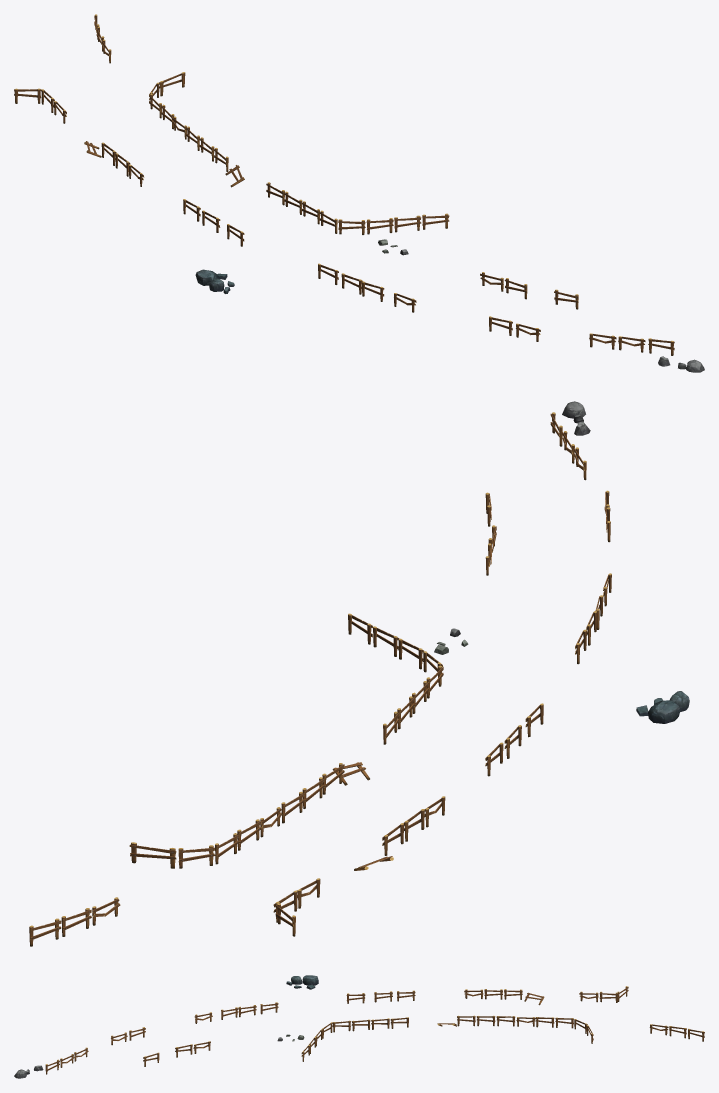
Rendered from wujian35_1.fbx.
3 views of the same model, one above another, from view 1: azimuth 30°, elevation 25°; view 2: azimuth 150°, elevation 25°; view 3: azimuth 270°, elevation 25° (orthographic). The views are drawn at different scales.
Visible parts, largest first — view 1: wujian35_1; view 2: wujian35_1; view 3: wujian35_1.
Part boxes in pixels (x1,y1,x2,y2): wujian35_1: (14,14,704,372); wujian35_1: (29,401,689,946); wujian35_1: (14,975,704,1078).
Bounding box in the file's own units: 2727 × 171 × 8079.
